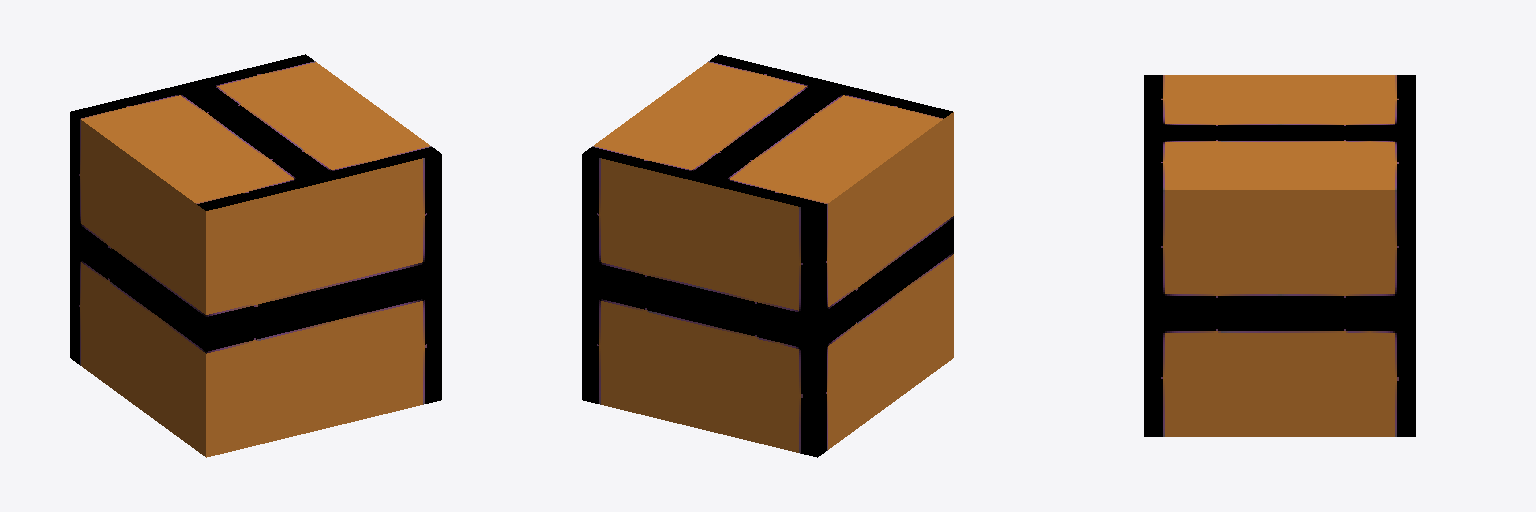
The picture shows the model from 3 angles: view 1: azimuth 30°, elevation 25°; view 2: azimuth 150°, elevation 25°; view 3: azimuth 270°, elevation 25°; orthographic projection.
Visible parts, largest first — view 1: Cube; view 2: Cube; view 3: Cube.
Part boxes in pixels (left/top/right/bottom): Cube: left=70, top=54, right=441, bottom=457; Cube: left=582, top=54, right=953, bottom=457; Cube: left=1144, top=75, right=1415, bottom=436.
Bounding box in the file's own units: 2 × 2 × 2.
Materials: 1 (1 with a texture image).